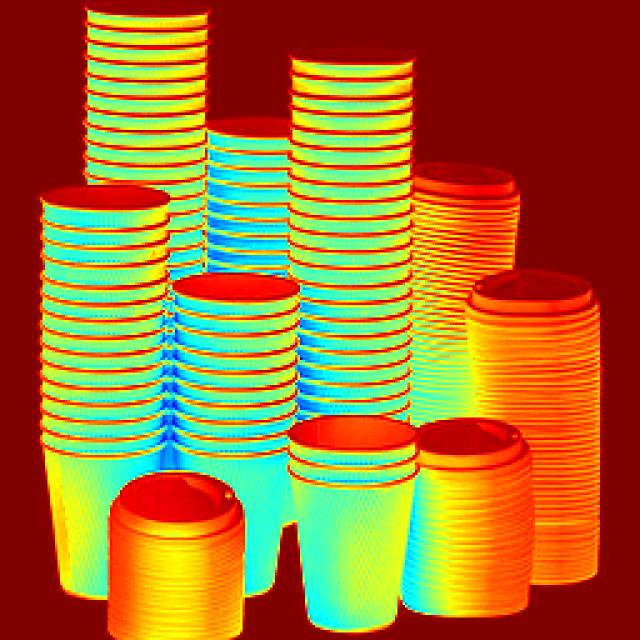Paper Cups: (459, 284, 614, 612), (274, 46, 410, 418), (28, 178, 168, 472), (170, 266, 294, 522), (402, 416, 538, 638), (289, 402, 412, 640), (79, 0, 221, 198), (98, 455, 228, 635), (421, 160, 497, 341), (212, 100, 291, 254)
